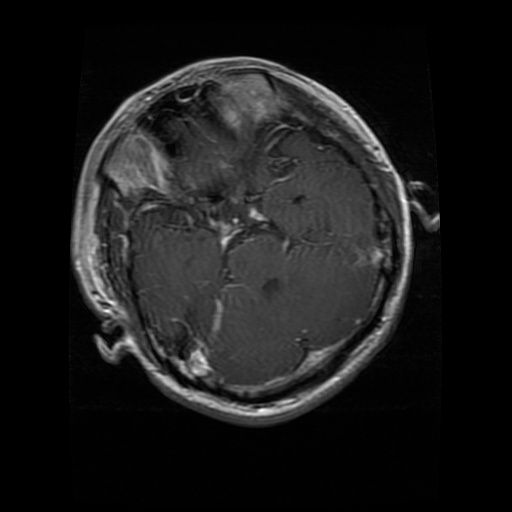glioma: (193, 171, 240, 220)
